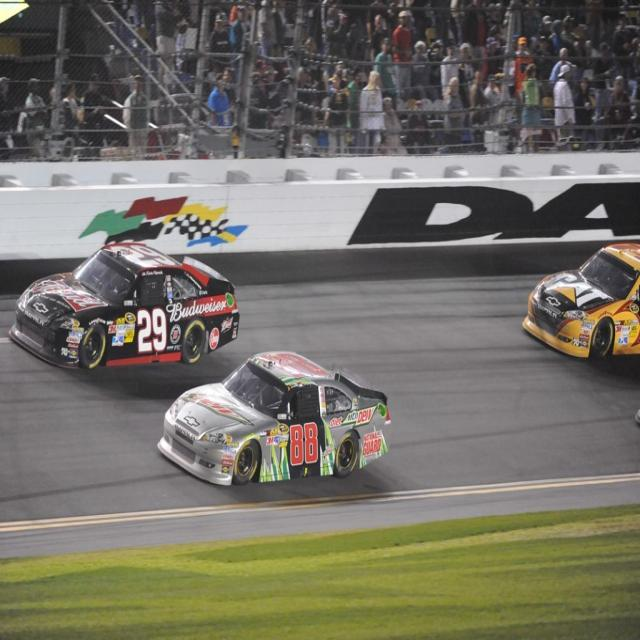car: (146, 349, 396, 494), (4, 233, 240, 371)
